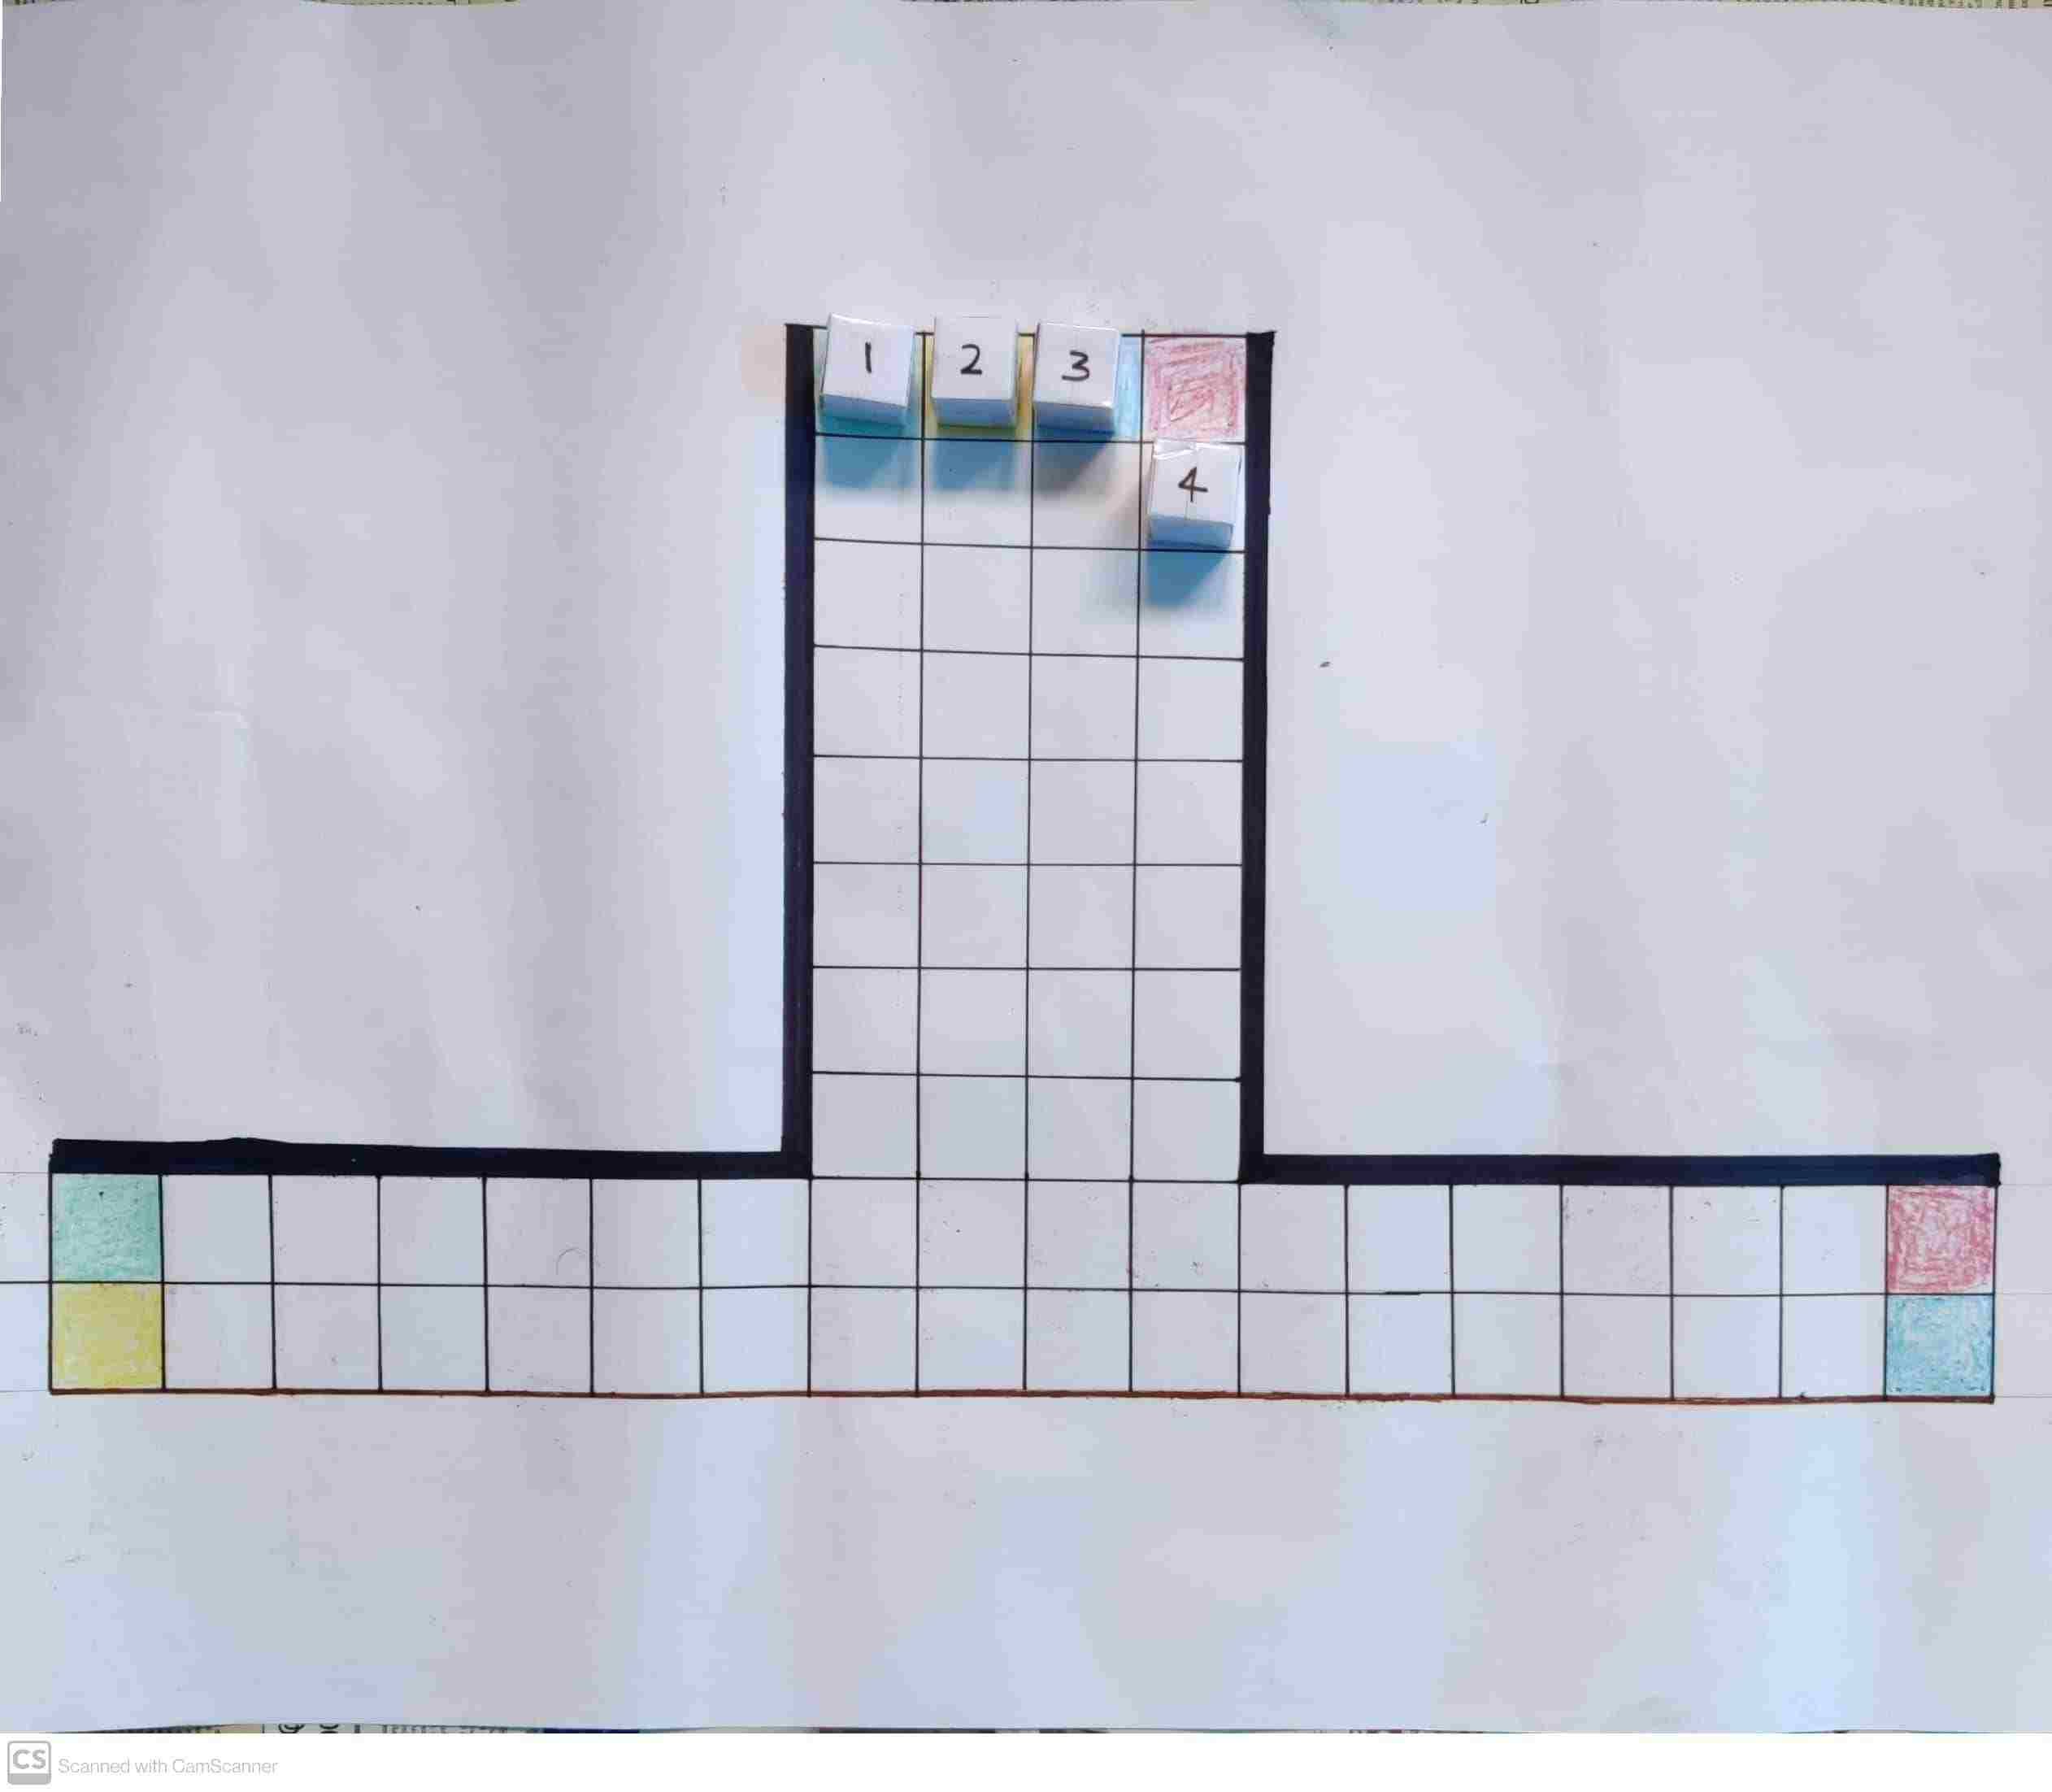arena: (45, 326, 1996, 1405)
bot: (1152, 436, 1239, 522), (827, 318, 911, 400), (937, 323, 1016, 400), (1036, 330, 1117, 405)
